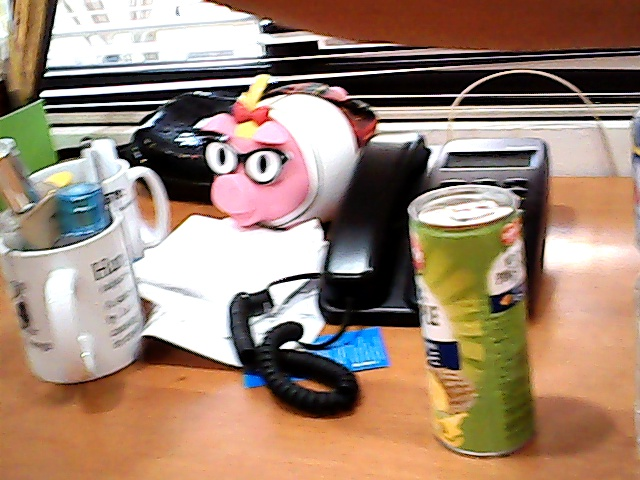Pine Juice: (386, 166, 568, 472)
